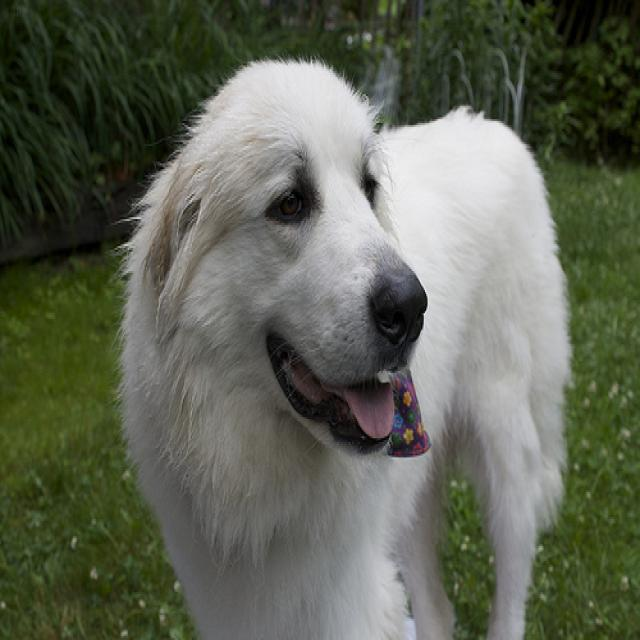dog-great_pyrenees: (102, 46, 576, 636)
